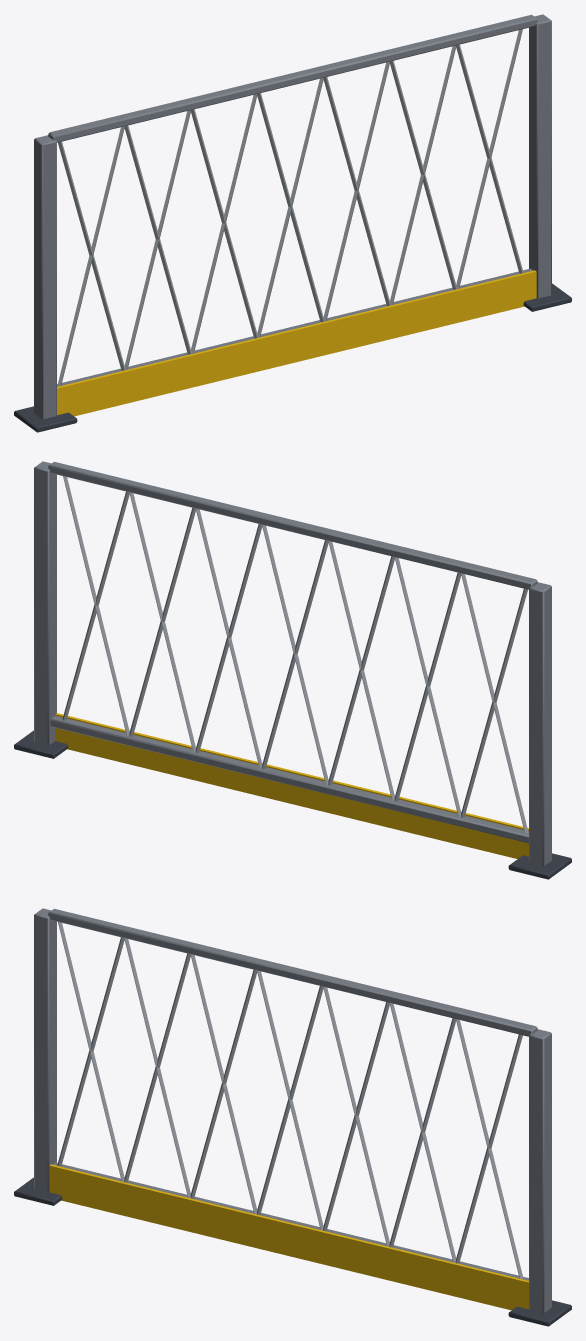
The model's file is railing_guard_mesh.glb.
3 renders of one model, top to bottom at view 1: azimuth 30°, elevation 25°; view 2: azimuth 150°, elevation 25°; view 3: azimuth 330°, elevation 25°, orthographic.
Parts seen in each view (by area): view 1: railing_guard_mesh; view 2: railing_guard_mesh; view 3: railing_guard_mesh.
Part boxes in pixels (x1,y1,x2,y2): railing_guard_mesh: (14, 14, 571, 432); railing_guard_mesh: (14, 461, 571, 879); railing_guard_mesh: (14, 908, 571, 1326).
Size of the model in its own units: 2.1 by 1.06 by 0.16.
